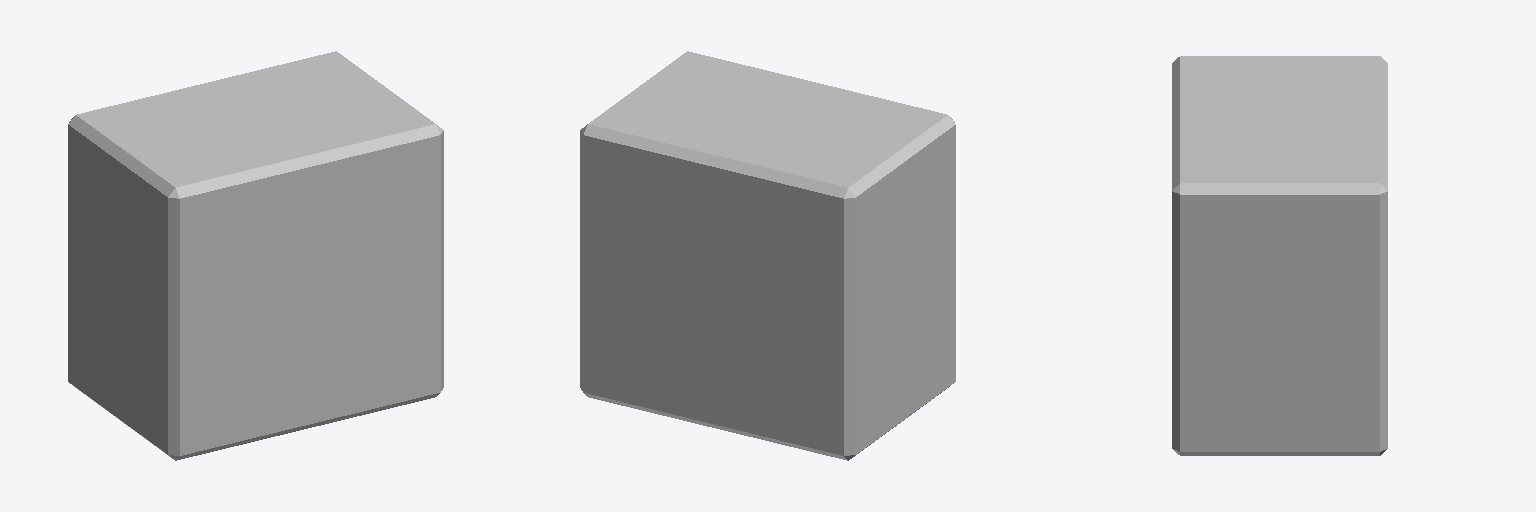
File: AppComponent.obj
The picture shows the model from 3 angles: view 1: azimuth 30°, elevation 25°; view 2: azimuth 150°, elevation 25°; view 3: azimuth 270°, elevation 25°; orthographic projection.
Visible parts, largest first — view 1: AppComponent; view 2: AppComponent; view 3: AppComponent.
Boxes of the visible parts, x1,y1,x2,y2 form: AppComponent: [68, 51, 443, 460]; AppComponent: [580, 51, 955, 460]; AppComponent: [1172, 56, 1387, 455].
Bounding box in the file's own units: 0.9229 × 0.8733 × 0.6285.